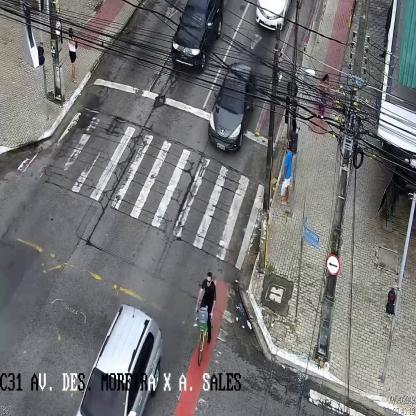bicycle: (194, 271, 216, 365)
car: (75, 304, 163, 415), (208, 63, 256, 153), (171, 0, 224, 72), (256, 0, 291, 31)
person: (279, 141, 293, 205), (316, 74, 329, 125), (68, 27, 78, 83)
